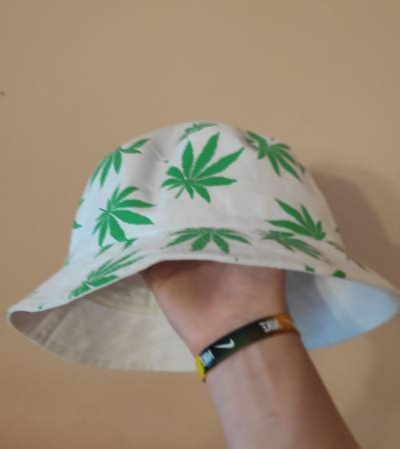Hat: (3, 103, 394, 374)
